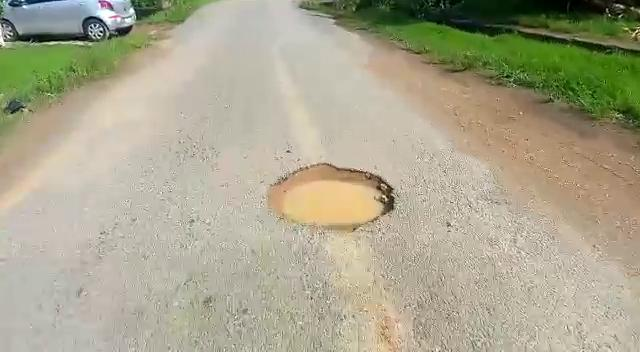pothole: (266, 163, 397, 228)
